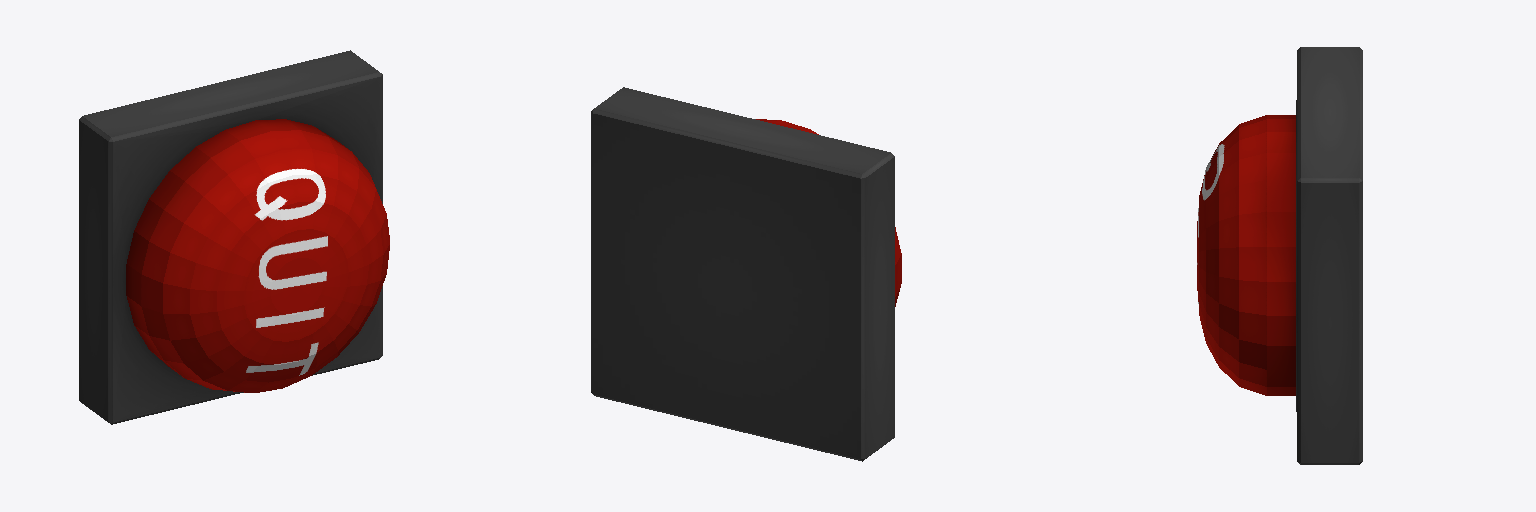
3 renders of one model, left to right at view 1: azimuth 30°, elevation 25°; view 2: azimuth 150°, elevation 25°; view 3: azimuth 270°, elevation 25°, orthographic.
Parts seen in each view (by area): view 1: Sphere; view 2: Sphere; view 3: Sphere.
Boxes of the visible parts, box(x1,y1,x2,y2) form: Sphere: box(79, 50, 389, 424); Sphere: box(591, 87, 901, 461); Sphere: box(1197, 47, 1362, 464).
Size of the model in its own units: 200 by 200 by 105.
1 materials, 1 textured.